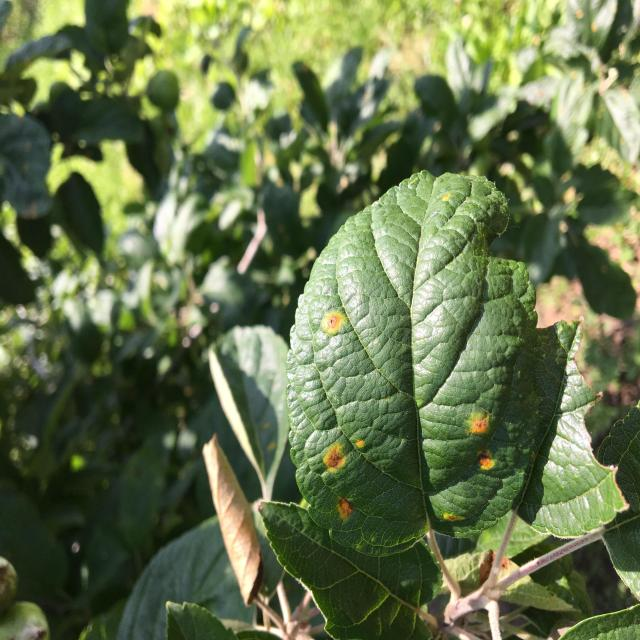Rust: (314, 293, 346, 352), (470, 453, 508, 491), (318, 434, 348, 482), (330, 497, 364, 538), (464, 405, 491, 444), (352, 432, 372, 462)
